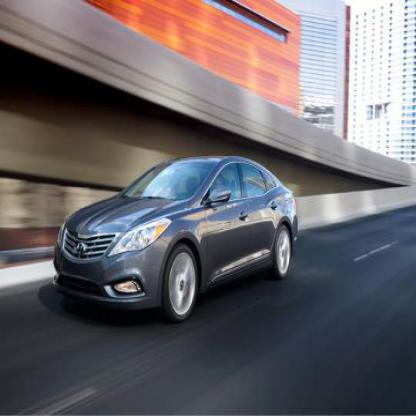Vehicle: (52, 156, 300, 326)
